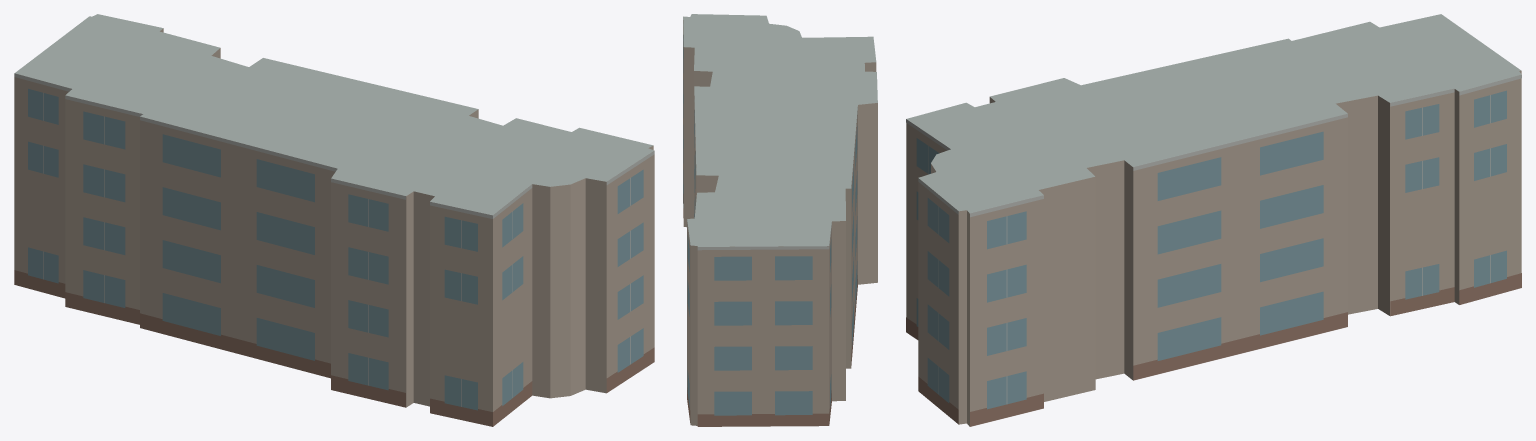
File: survey-upis-32538353.glb
The picture shows the model from 3 angles, left to right: view 1: azimuth 30°, elevation 25°; view 2: azimuth 150°, elevation 25°; view 3: azimuth 270°, elevation 25°; orthographic projection. The views are drawn at different scales.
Visible parts, largest first — view 1: survey-upis-32538353.tmp; view 2: survey-upis-32538353.tmp; view 3: survey-upis-32538353.tmp.
Part boxes in pixels (<box>): survey-upis-32538353.tmp: <box>14,14,654,426</box>; survey-upis-32538353.tmp: <box>683,14,877,426</box>; survey-upis-32538353.tmp: <box>906,14,1521,426</box>.
Size of the model in its own units: 27.9 by 13.9 by 36.36.
